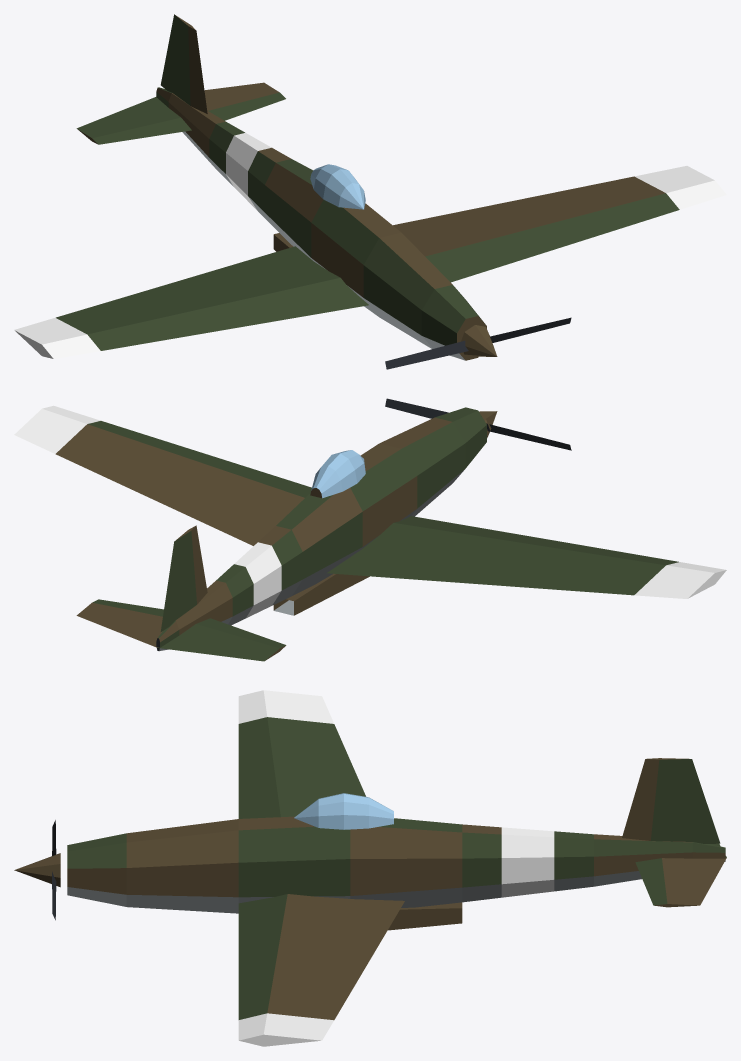
Rendered from hurricane_mk1_lod.glb.
3 views of the same model, one above another, from view 1: azimuth 30°, elevation 25°; view 2: azimuth 150°, elevation 25°; view 3: azimuth 270°, elevation 25° (orthographic). The views are drawn at different scales.
Parts seen in each view (by area): view 1: body, prop; view 2: body, prop; view 3: body, prop.
Part boxes in pixels (box(x1,y1,x2,y2)): body: box(14, 14, 726, 360); prop: box(385, 317, 571, 369); body: box(14, 405, 726, 661); prop: box(385, 398, 571, 450); body: box(67, 690, 726, 1046); prop: box(14, 820, 60, 920).
Bounding box in the file's own units: 12.19 × 2.8 × 10.66.
